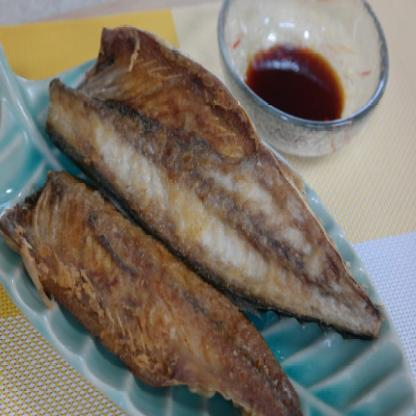Peixe: (0, 35, 389, 415)
